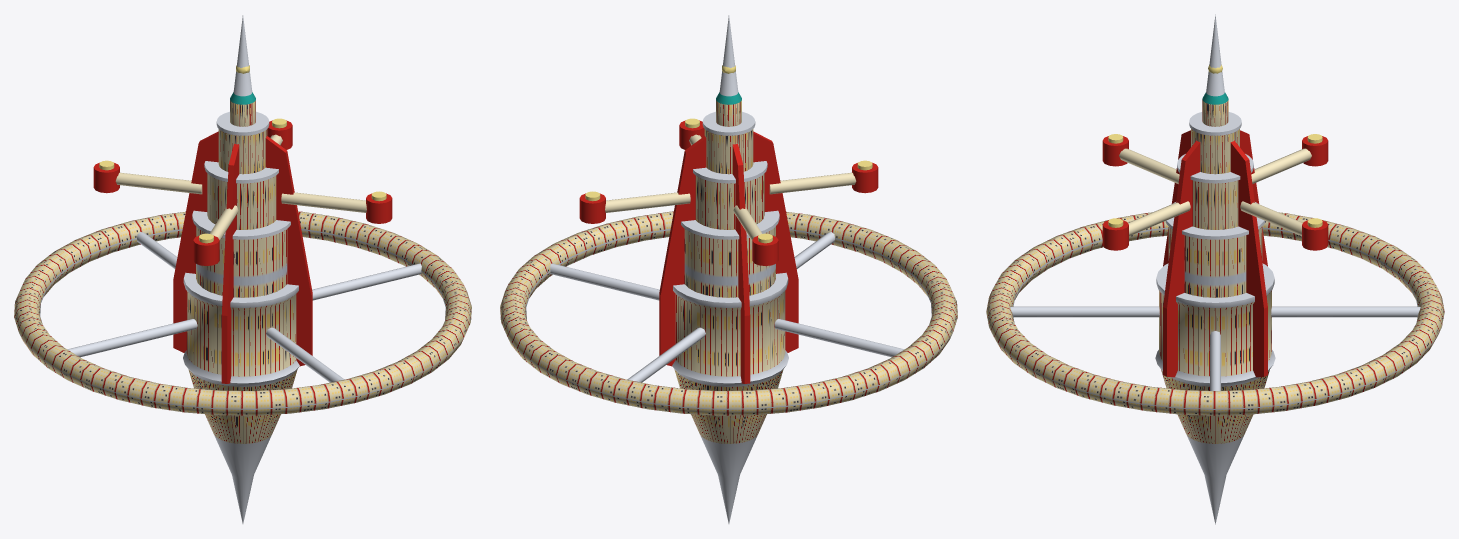
File: guard_station.obj
3 views of the same model, side by side, from view 1: azimuth 30°, elevation 25°; view 2: azimuth 150°, elevation 25°; view 3: azimuth 270°, elevation 25° (orthographic).
Parts seen in each view (by area): view 1: tower, ring, spoke, buttress135, buttress315, arm, cradle, buttress225, cradle_light; view 2: tower, ring, spoke, buttress45, buttress225, arm, cradle, buttress315, cradle_light; view 3: tower, ring, spoke, buttress45, buttress135, arm, cradle, cradle_light.
Part boxes in pixels (x1,y1,x2,y2): tower: [183, 15, 299, 523]; ring: [14, 211, 471, 415]; spoke: [67, 232, 421, 382]; buttress135: [265, 136, 312, 366]; buttress315: [173, 131, 218, 352]; arm: [115, 134, 366, 240]; cradle: [93, 120, 392, 265]; buttress225: [221, 143, 239, 383]; cradle_light: [99, 118, 386, 243]; tower: [672, 15, 788, 523]; ring: [500, 211, 957, 415]; spoke: [550, 232, 904, 382]; buttress45: [659, 136, 706, 366]; buttress225: [753, 131, 798, 352]; arm: [605, 134, 856, 240]; cradle: [579, 120, 878, 265]; buttress315: [732, 143, 750, 383]; cradle_light: [585, 118, 872, 243]; tower: [1155, 14, 1275, 524]; ring: [986, 212, 1444, 415]; spoke: [1010, 306, 1420, 390]; buttress45: [1230, 140, 1267, 377]; buttress135: [1163, 140, 1200, 377]; arm: [1119, 148, 1311, 236]; cradle: [1102, 136, 1328, 250]; cradle_light: [1108, 134, 1322, 227].
Bounding box in the file's own units: 244 × 300 × 244.
6 materials, 1 textured.
